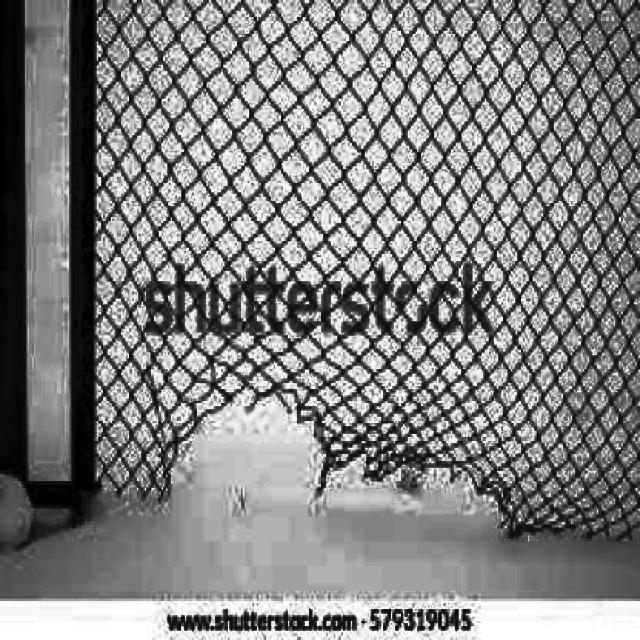anomaly-fence: (123, 354, 622, 540)
